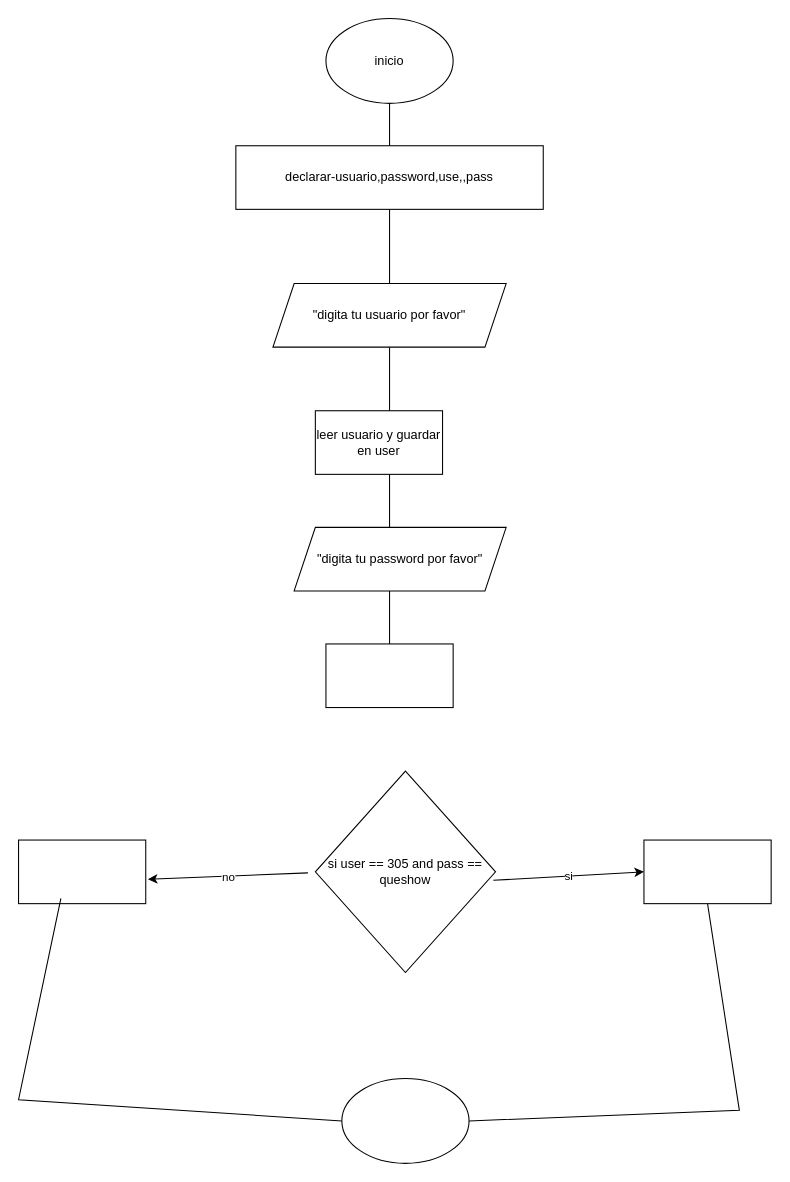
Image size: 790x1182. Some labels were removed from this diagram. Here are the shapes that lost their labels. From the top down, the centre of each, then its label:
pixel 389 675: leer password y guardar en pass
pixel 81 871: "que haces aqui"
pixel 707 871: "bienvenido"
